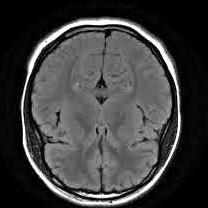Normal_Brain: (1, 3, 193, 208)
